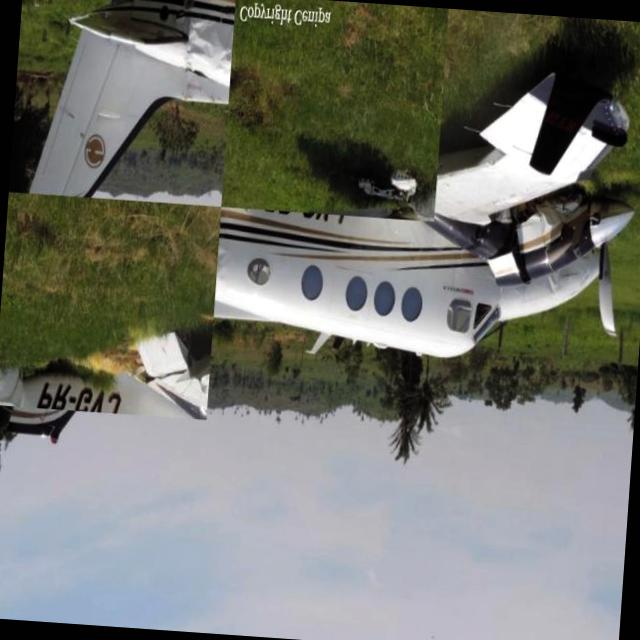dent: (188, 11, 240, 66)
